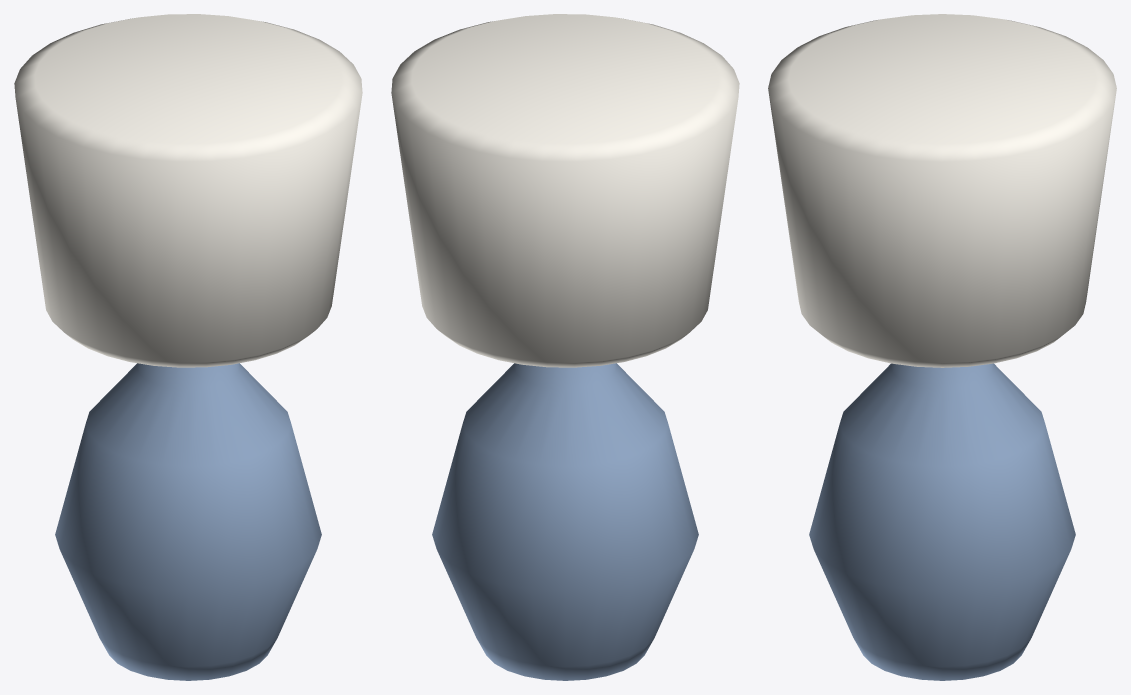
The model's file is table_lamp.glb.
3 views of the same model, side by side, from view 1: azimuth 30°, elevation 25°; view 2: azimuth 150°, elevation 25°; view 3: azimuth 270°, elevation 25° (orthographic).
Visible parts, largest first — view 1: shade, base; view 2: shade, base; view 3: shade, base.
Boxes of the visible parts, x1,y1,x2,y2 form: shade: (14,14,362,367); base: (55,363,321,680); shade: (391,14,739,367); base: (432,363,698,680); shade: (768,14,1116,367); base: (809,363,1075,680).
Size of the model in its own units: 0.34 by 0.61 by 0.34.
